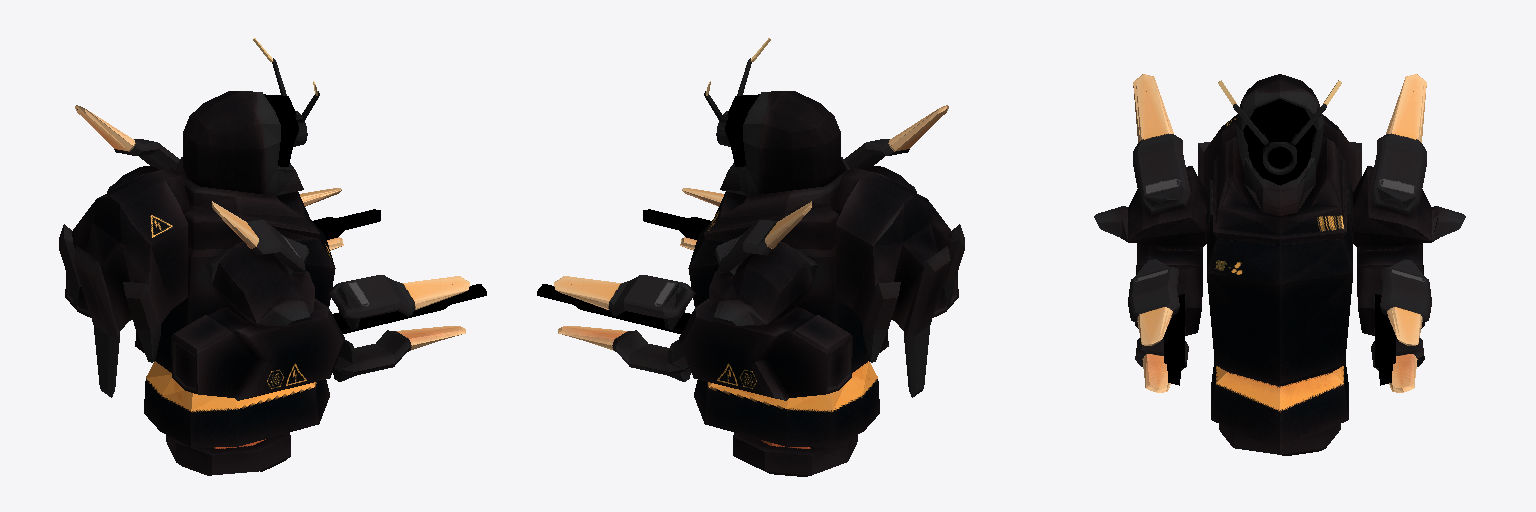
3 views of the same model, side by side, from view 1: azimuth 30°, elevation 25°; view 2: azimuth 150°, elevation 25°; view 3: azimuth 270°, elevation 25° (orthographic).
Visible parts, largest first — view 1: Mecha_Elec_Top, Mecha_Elec_Bot; view 2: Mecha_Elec_Top, Mecha_Elec_Bot; view 3: Mecha_Elec_Top, Mecha_Elec_Bot.
Boxes of the visible parts, x1=… form: Mecha_Elec_Top: x1=59, y1=38, x2=486, y2=447; Mecha_Elec_Bot: x1=166, y1=433, x2=290, y2=475; Mecha_Elec_Top: x1=537, y1=38, x2=964, y2=447; Mecha_Elec_Bot: x1=733, y1=433, x2=857, y2=476; Mecha_Elec_Top: x1=1094, y1=74, x2=1465, y2=449; Mecha_Elec_Bot: x1=1219, y1=424, x2=1340, y2=455.
Size of the model in its own units: 93.74 by 96.98 by 86.3.
1 materials, 1 textured.